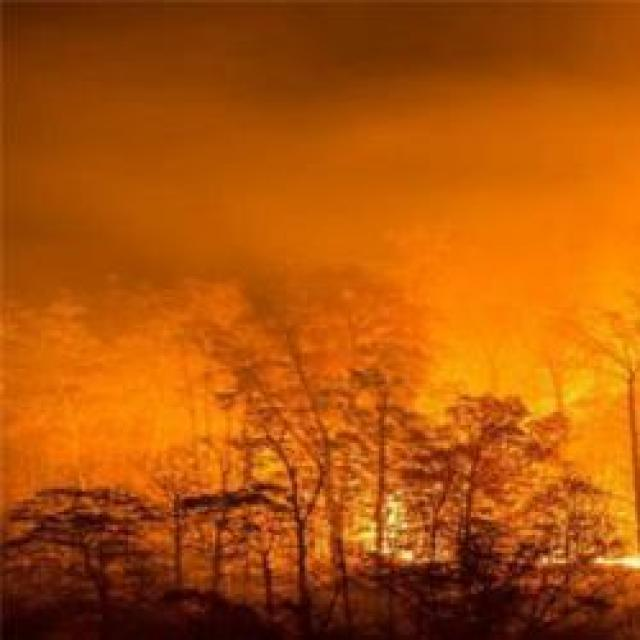Fire: (377, 488, 421, 572), (591, 552, 640, 574)
